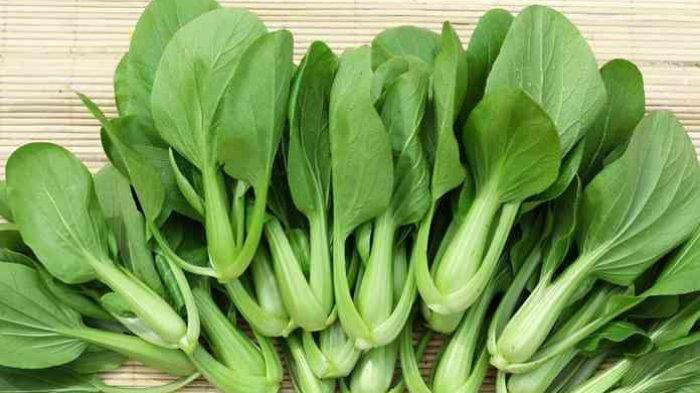Sawi: (85, 23, 636, 378)
